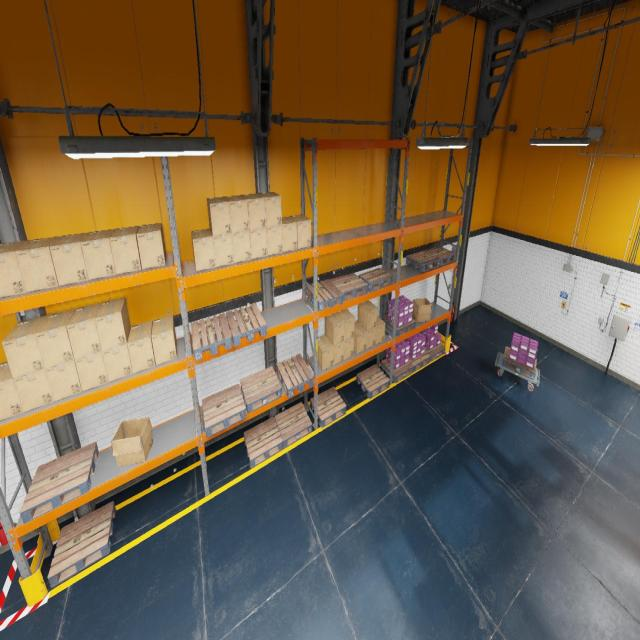box: (2, 315, 48, 378), (15, 236, 60, 292), (36, 308, 76, 368), (49, 232, 89, 286), (111, 416, 153, 466), (66, 303, 102, 359), (95, 297, 131, 351), (80, 228, 116, 280), (13, 369, 54, 413), (0, 239, 30, 297), (102, 330, 133, 382), (110, 226, 142, 274), (45, 360, 82, 401), (128, 321, 156, 373), (136, 223, 166, 269), (0, 361, 23, 420), (151, 315, 177, 365), (75, 352, 108, 391), (191, 229, 215, 271), (207, 197, 231, 236), (225, 195, 249, 233), (242, 193, 266, 230), (258, 192, 282, 227), (289, 214, 311, 249), (213, 234, 234, 266), (325, 312, 344, 346), (232, 230, 251, 262), (337, 308, 355, 341), (325, 334, 344, 365), (358, 301, 378, 330), (250, 228, 268, 259), (282, 216, 297, 252), (357, 321, 376, 349), (318, 335, 333, 370), (266, 226, 283, 256), (413, 298, 431, 322), (354, 321, 367, 354), (376, 316, 385, 344), (344, 337, 354, 360)
pallets: (20, 442, 99, 524), (47, 501, 116, 588), (202, 383, 246, 438), (240, 366, 282, 413), (191, 313, 232, 361), (244, 417, 282, 468), (226, 303, 267, 347), (274, 402, 312, 448), (276, 353, 314, 398), (310, 386, 346, 428), (502, 346, 537, 380), (306, 279, 343, 311), (356, 364, 390, 398), (329, 273, 368, 301), (358, 268, 392, 291), (381, 359, 413, 383), (406, 251, 440, 272), (382, 315, 416, 336), (424, 246, 456, 265), (409, 351, 430, 371), (425, 343, 445, 362)
